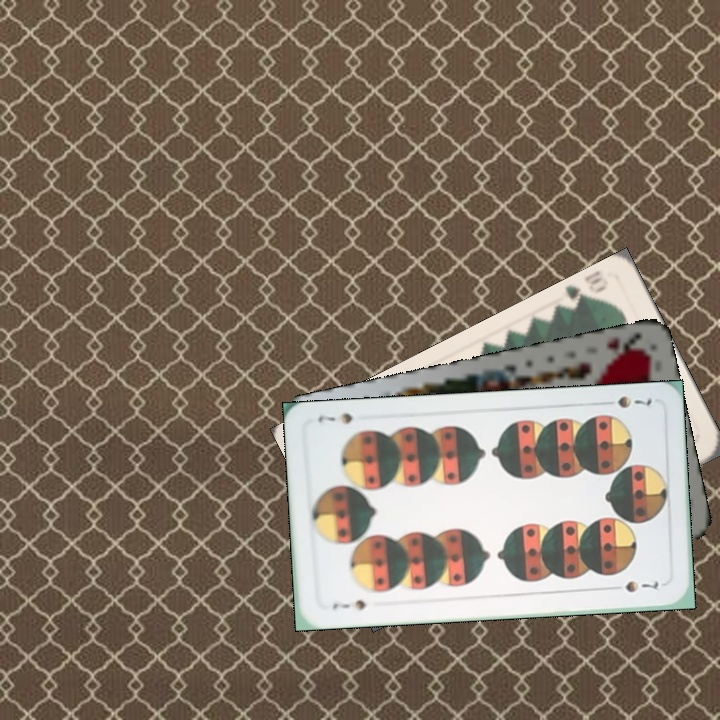G10: (559, 273, 612, 313)
HK: (603, 328, 647, 362)
S7: (614, 391, 654, 411), (328, 596, 368, 613)
